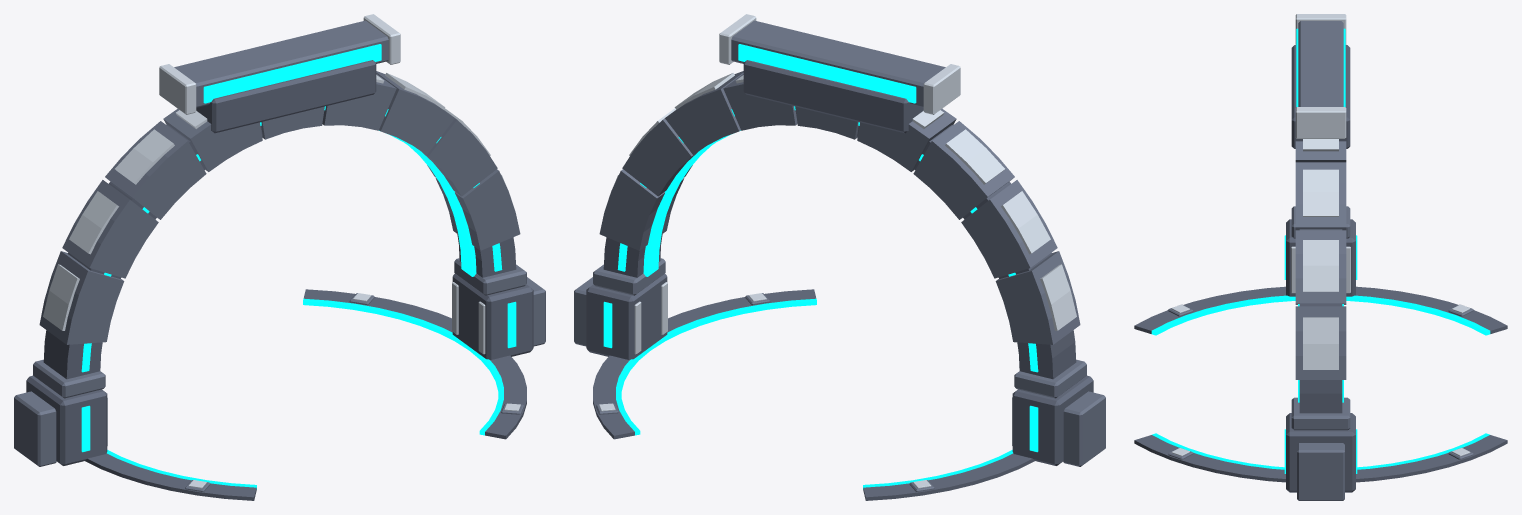
Rendered from QueuePortalArch_Prototype.glb.
3 views of the same model, side by side, from view 1: azimuth 30°, elevation 25°; view 2: azimuth 150°, elevation 25°; view 3: azimuth 270°, elevation 25° (orthographic). The views are drawn at different scales.
Visible parts, largest first — view 1: SM_Hub_QueuePortalArch_01; view 2: SM_Hub_QueuePortalArch_01; view 3: SM_Hub_QueuePortalArch_01.
Boxes of the visible parts, x1,y1,x2,y2 form: SM_Hub_QueuePortalArch_01: (14,14,545,500); SM_Hub_QueuePortalArch_01: (574,14,1105,500); SM_Hub_QueuePortalArch_01: (1134,14,1507,500).
Size of the model in its own units: 40.8 by 26.65 by 27.83.
